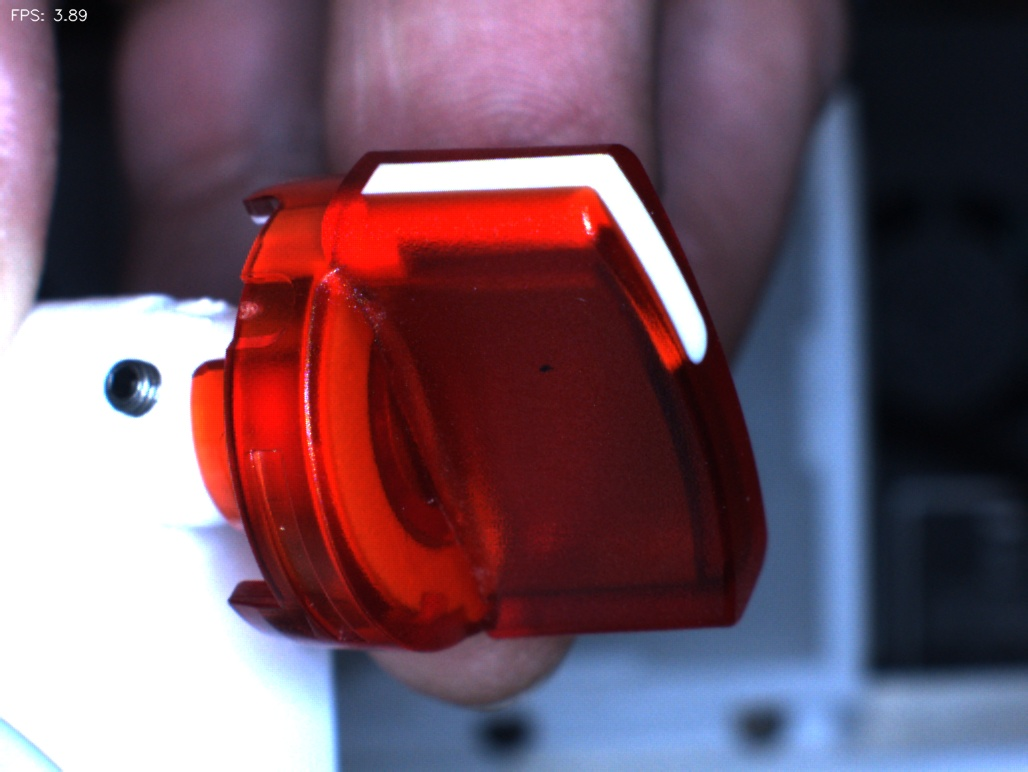PointNoir: (505, 331, 584, 412)
